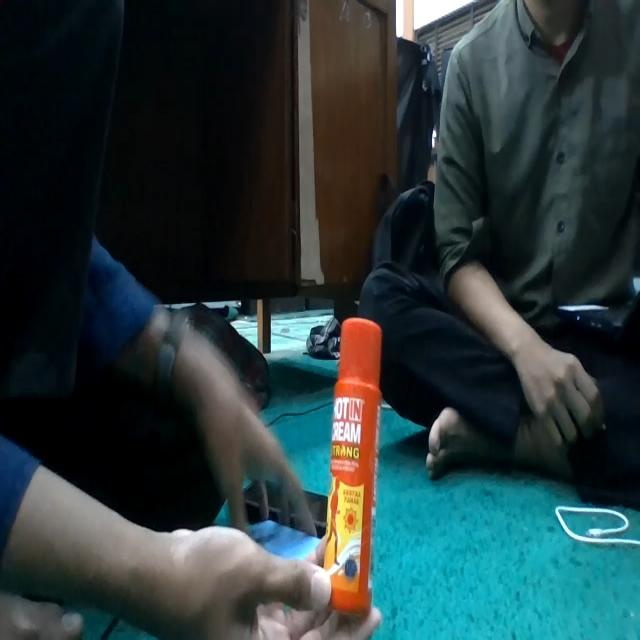Boncabe: (324, 318, 382, 614)
